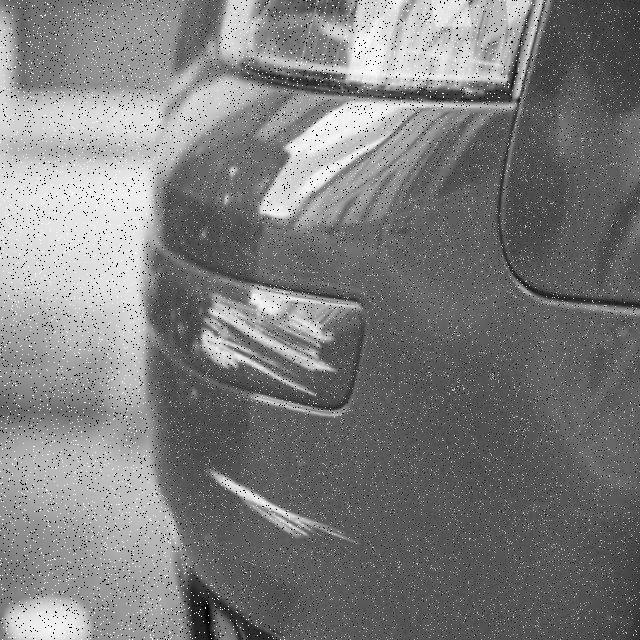front-bumper-dent: (143, 78, 519, 639)
